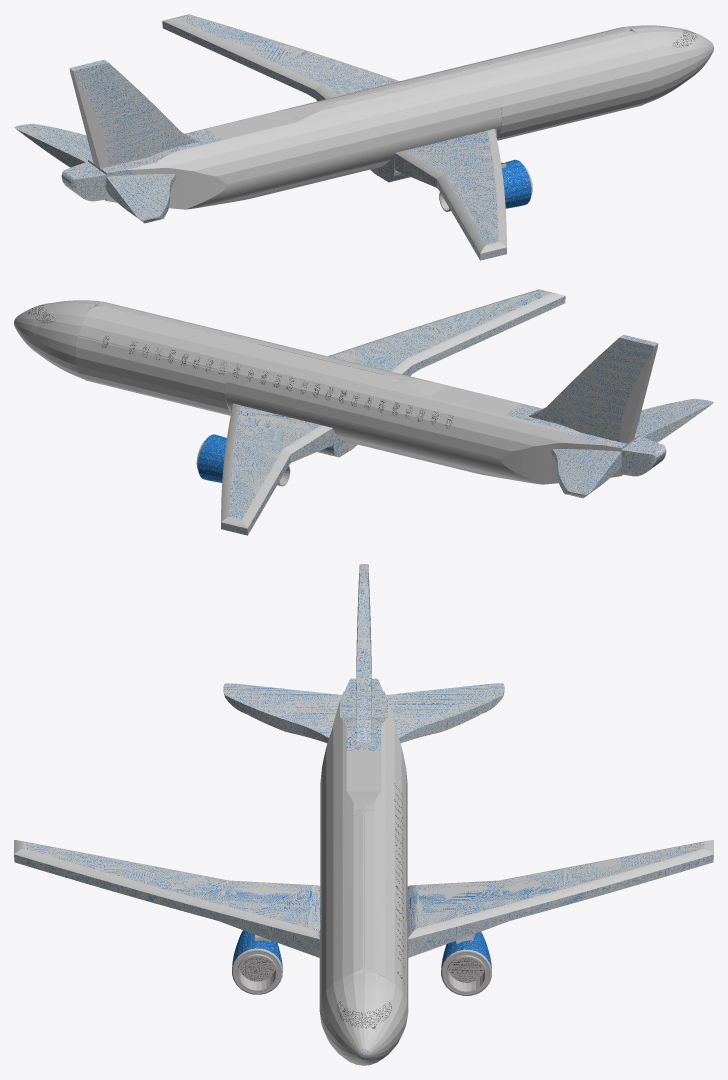
3 views of the same model, one above another, from view 1: azimuth 30°, elevation 25°; view 2: azimuth 150°, elevation 25°; view 3: azimuth 270°, elevation 25° (orthographic). The views are drawn at different scales.
Visible parts, largest first — view 1: mesh1_mesh1-geometry; view 2: mesh1_mesh1-geometry; view 3: mesh1_mesh1-geometry.
Part boxes in pixels (box(x1,y1,x2,y2)): mesh1_mesh1-geometry: box(14, 14, 713, 260); mesh1_mesh1-geometry: box(14, 289, 713, 535); mesh1_mesh1-geometry: box(14, 564, 713, 1065).
Bounding box in the file's own units: 0.7432 × 0.2162 × 0.6332.
